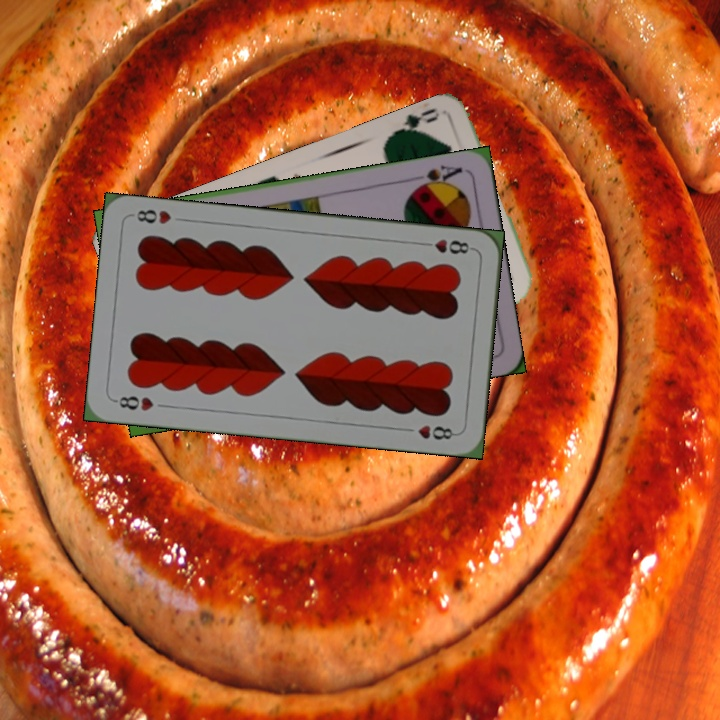GO: (388, 103, 443, 138)
H8: (417, 235, 476, 257), (110, 392, 156, 414)
SA: (407, 161, 465, 193)
